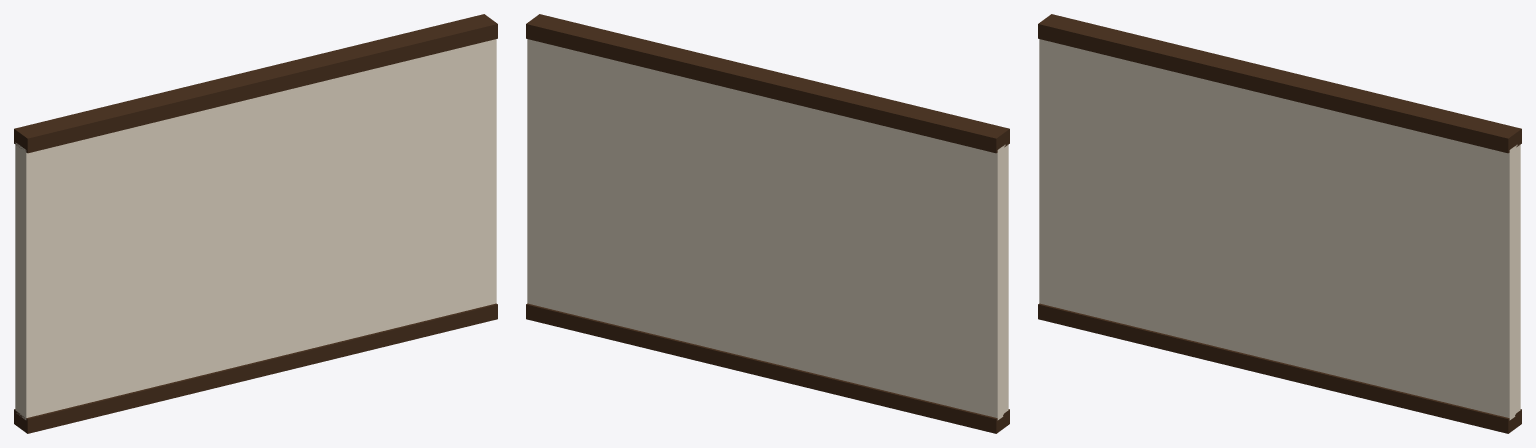
File: hanok_wall_plaster.glb
3 views of the same model, side by side, from view 1: azimuth 30°, elevation 25°; view 2: azimuth 150°, elevation 25°; view 3: azimuth 330°, elevation 25° (orthographic).
Parts seen in each view (by area): view 1: hanok_wall_plaster; view 2: hanok_wall_plaster; view 3: hanok_wall_plaster.
Boxes of the visible parts, x1,y1,x2,y2 form: hanok_wall_plaster: [14, 14, 497, 433]; hanok_wall_plaster: [526, 14, 1009, 433]; hanok_wall_plaster: [1038, 14, 1521, 433].
Bounding box in the file's own units: 4 × 2.4 × 0.2.
